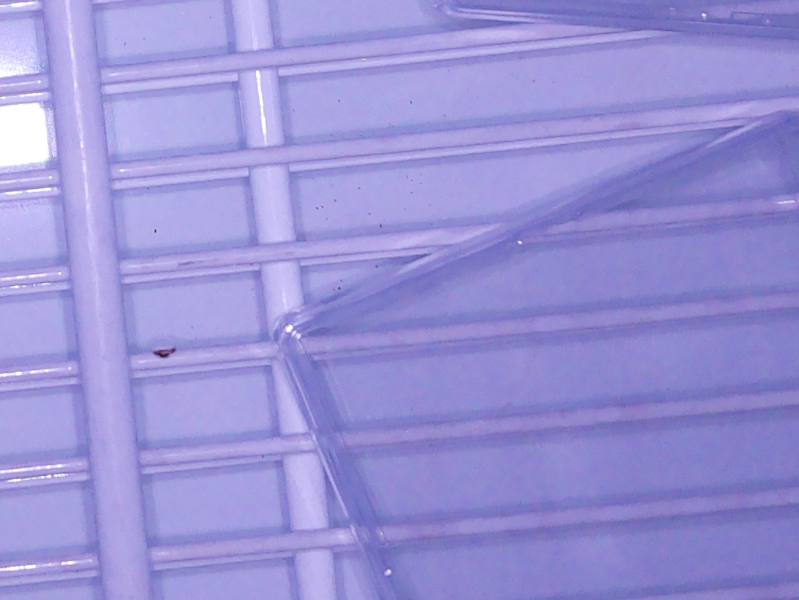plate: (271, 110, 799, 600), (437, 1, 799, 38)
